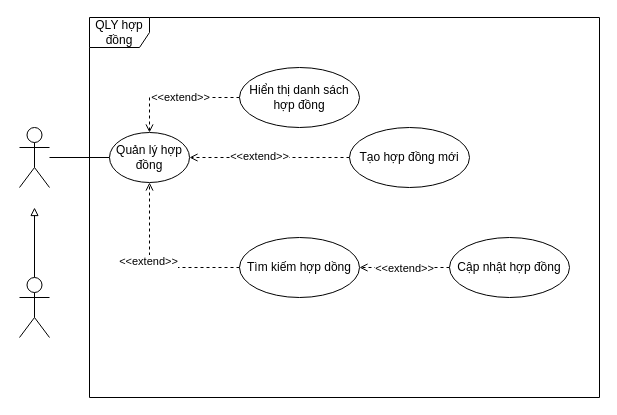
Some shapes in this 617 by 415 pixel diagram are drawn without their labels. The centre of each missing label's shape, as x and y in pixels:
"Admin" goes at [34,307].
"HR" goes at [34,157].
